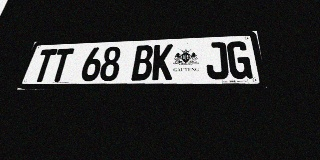6: (80, 47, 104, 81)
8: (98, 46, 122, 81)
B: (131, 45, 154, 81)
G: (226, 41, 253, 79)
J: (205, 42, 229, 79)
K: (151, 44, 173, 80)
T: (31, 49, 58, 82), (48, 48, 74, 82)
